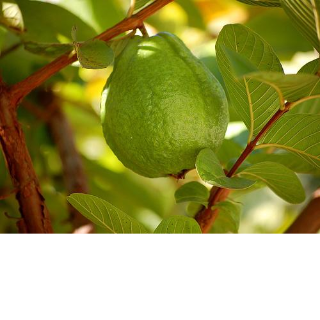oi: (98, 28, 231, 180)
